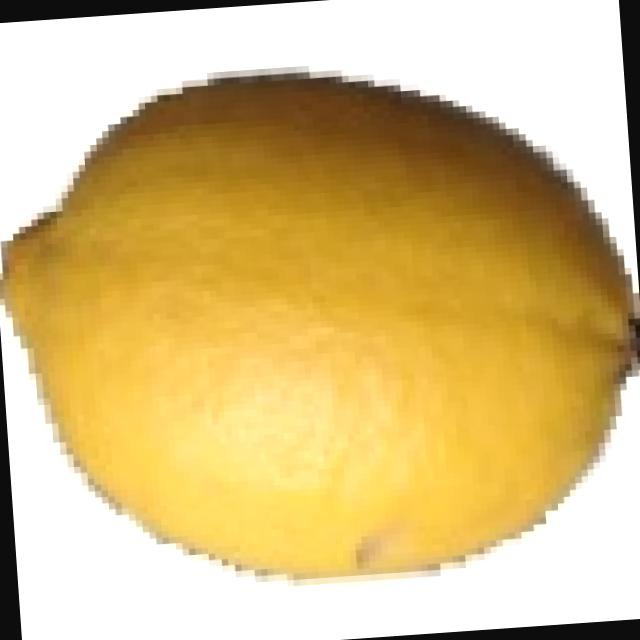lemon: (0, 45, 640, 635)
